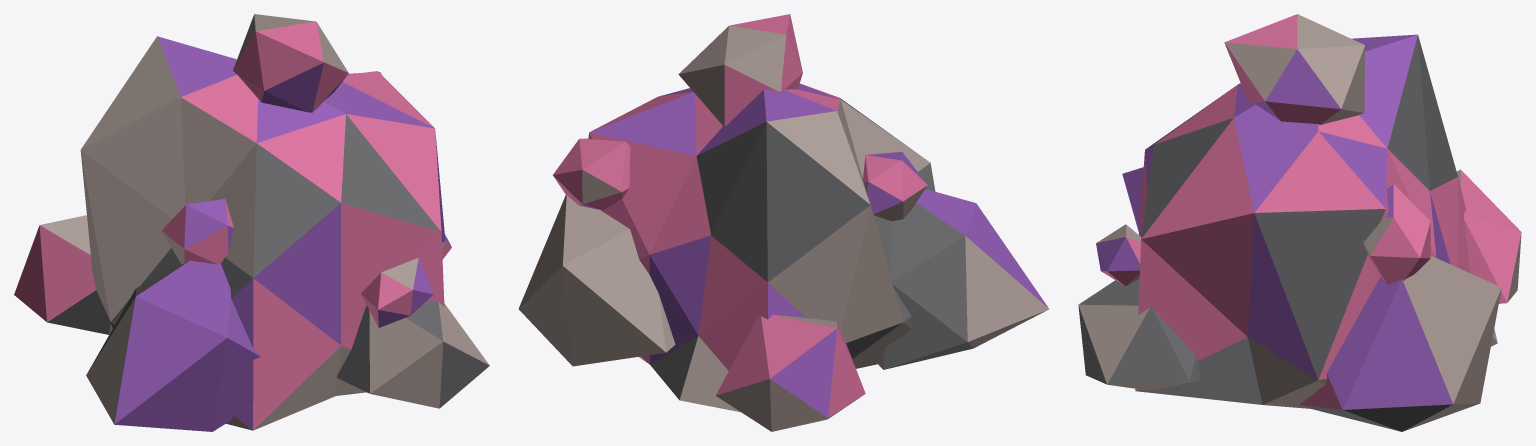
File: rare_earths_a.glb
3 renders of one model, left to right at view 1: azimuth 30°, elevation 25°; view 2: azimuth 150°, elevation 25°; view 3: azimuth 270°, elevation 25°, orthographic. The views are drawn at different scales.
Parts seen in each view (by area): view 1: rare_earths_a; view 2: rare_earths_a; view 3: rare_earths_a.
Part boxes in pixels (bbox=[...]): rare_earths_a: bbox=[14, 14, 489, 431]; rare_earths_a: bbox=[518, 14, 1048, 431]; rare_earths_a: bbox=[1078, 14, 1521, 431].
Bounding box in the file's own units: 1.2 × 0.8504 × 1.06.
